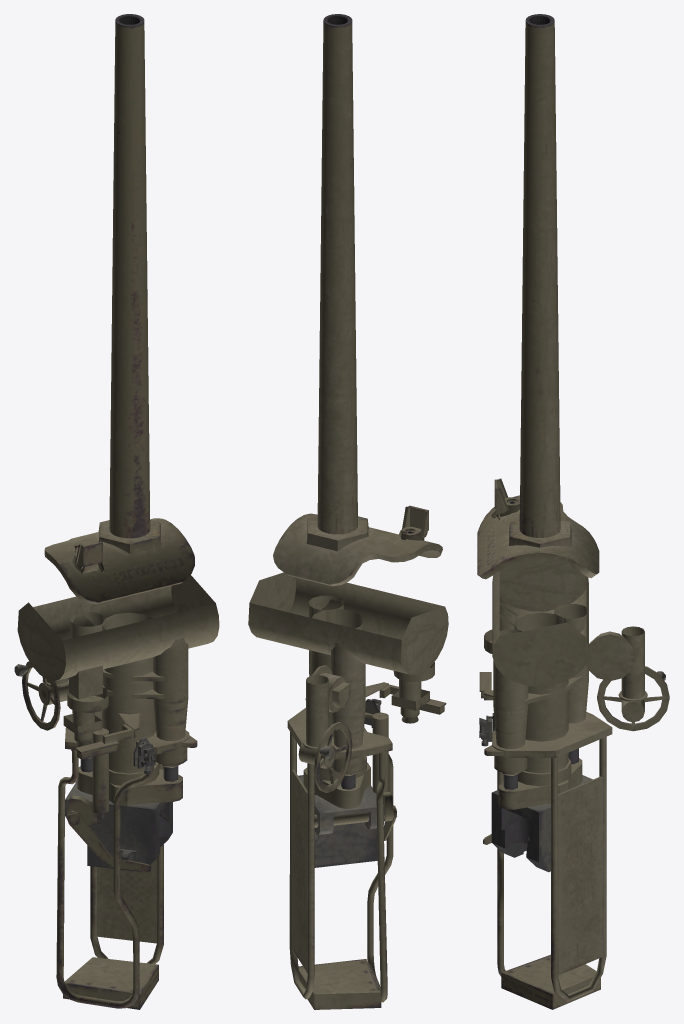
The model's file is Gun_01.glb.
3 renders of one model, left to right at view 1: azimuth 30°, elevation 25°; view 2: azimuth 150°, elevation 25°; view 3: azimuth 270°, elevation 25°, orthographic.
Parts seen in each view (by area): view 1: set_0_group_0; view 2: set_0_group_0; view 3: set_0_group_0.
Part boxes in pixels (x1,y1,x2,y2): set_0_group_0: (14, 14, 219, 1009); set_0_group_0: (248, 14, 448, 1009); set_0_group_0: (477, 14, 669, 1009).
Size of the model in its own units: 0.669 by 4.05 by 0.7274.
1 material, 1 textured.
